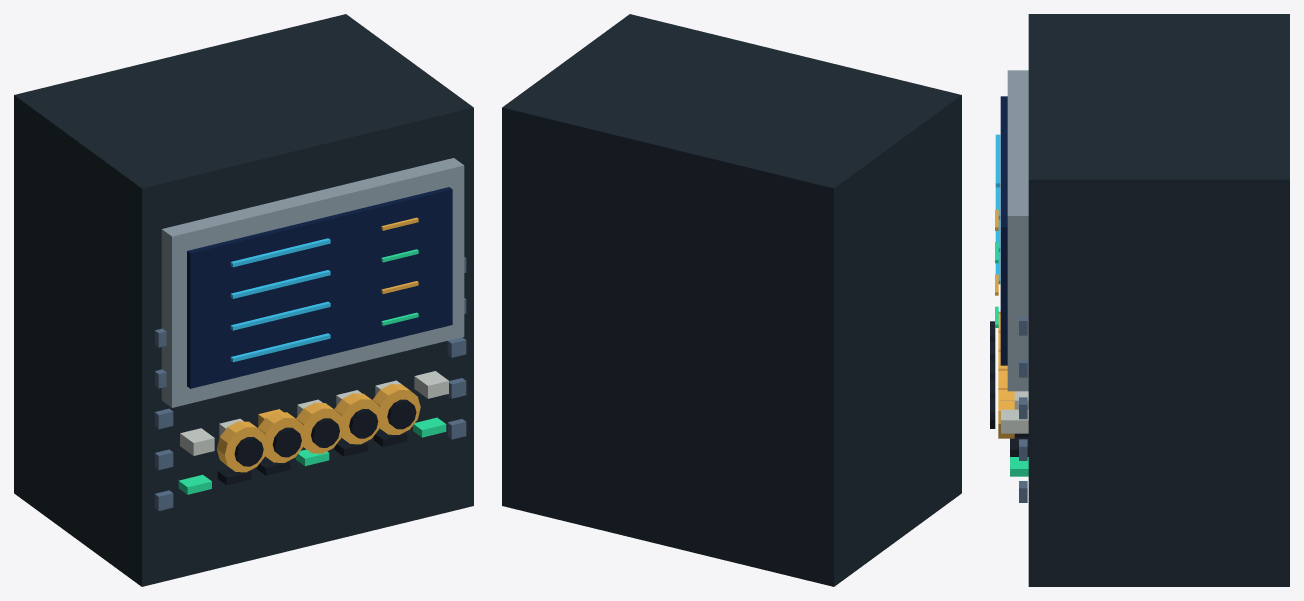
Rendered from 65_L84_AttitudeSafeModeSupervisor.fbx.
The picture shows the model from 3 angles, left to right: view 1: azimuth 30°, elevation 25°; view 2: azimuth 150°, elevation 25°; view 3: azimuth 270°, elevation 25°; orthographic projection. The views are drawn at different scales.
Visible parts, largest first — view 1: L84_AttitudeSafeModeSupervisor, L84_AttitudeSafeModeSupervisor_Part_0009, L84_AttitudeSafeModeSupervisor_Part_0015, L84_AttitudeSafeModeSupervisor_Part_0011, L84_AttitudeSafeModeSupervisor_Part_0017, L84_AttitudeSafeModeSupervisor_Part_0013, L84_AttitudeSafeModeSupervisor_Part_0018, L84_AttitudeSafeModeSupervisor_Part_0012, L84_AttitudeSafeModeSupervisor_Part_0014, L84_AttitudeSafeModeSupervisor_Part_0010, L84_AttitudeSafeModeSupervisor_Part_0016; view 2: L84_AttitudeSafeModeSupervisor; view 3: L84_AttitudeSafeModeSupervisor, L84_AttitudeSafeModeSupervisor_Part_0017.
Part boxes in pixels (x1,y1,x2,y2): L84_AttitudeSafeModeSupervisor: (14, 14, 473, 586); L84_AttitudeSafeModeSupervisor_Part_0009: (217, 421, 267, 472); L84_AttitudeSafeModeSupervisor_Part_0015: (334, 393, 382, 444); L84_AttitudeSafeModeSupervisor_Part_0011: (258, 412, 305, 462); L84_AttitudeSafeModeSupervisor_Part_0017: (372, 384, 420, 434); L84_AttitudeSafeModeSupervisor_Part_0013: (296, 402, 344, 453); L84_AttitudeSafeModeSupervisor_Part_0018: (387, 399, 416, 429); L84_AttitudeSafeModeSupervisor_Part_0012: (272, 427, 301, 457); L84_AttitudeSafeModeSupervisor_Part_0014: (311, 418, 339, 447); L84_AttitudeSafeModeSupervisor_Part_0010: (234, 437, 263, 466); L84_AttitudeSafeModeSupervisor_Part_0016: (349, 409, 378, 438); L84_AttitudeSafeModeSupervisor: (502, 14, 961, 586); L84_AttitudeSafeModeSupervisor: (995, 14, 1289, 586); L84_AttitudeSafeModeSupervisor_Part_0017: (998, 388, 1014, 438).
Bounding box in the file's own units: 99.96 × 115 × 76.52.
